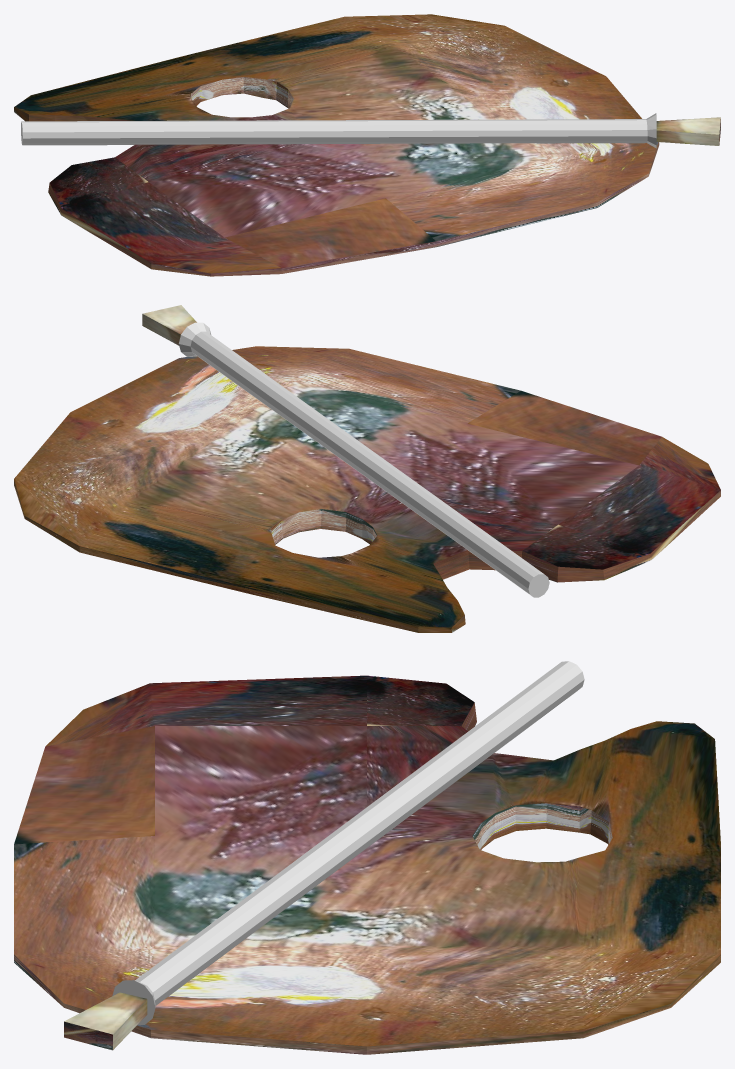
The model's file is Palitre.dae.
The picture shows the model from 3 angles, top to bottom: view 1: azimuth 30°, elevation 25°; view 2: azimuth 150°, elevation 25°; view 3: azimuth 270°, elevation 25°; orthographic projection. The views are drawn at different scales.
Visible parts, largest first — view 1: Cube; view 2: Cube; view 3: Cube.
Part boxes in pixels (x1,y1,x2,y2): Cube: (14,14,720,276); Cube: (14,305,720,632); Cube: (14,661,720,1054).
Bounding box in the file's own units: 2.16 × 1.67 × 0.1569.
Materials: 2 (1 with a texture image).
